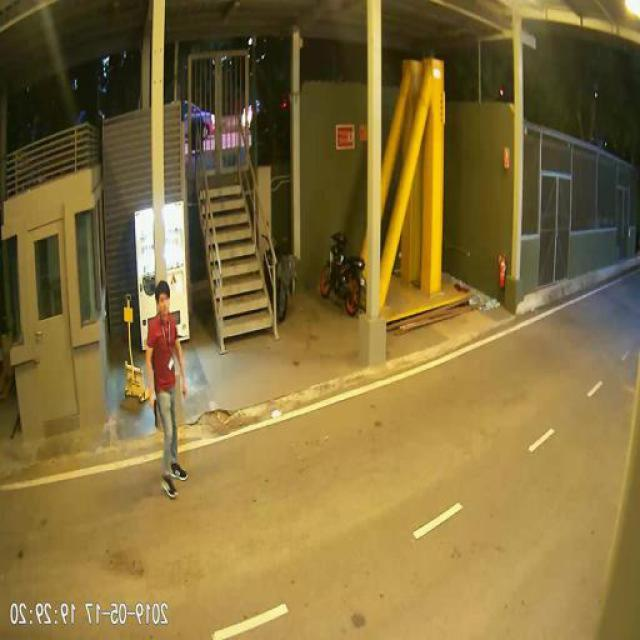weapon: (146, 398, 160, 430)
